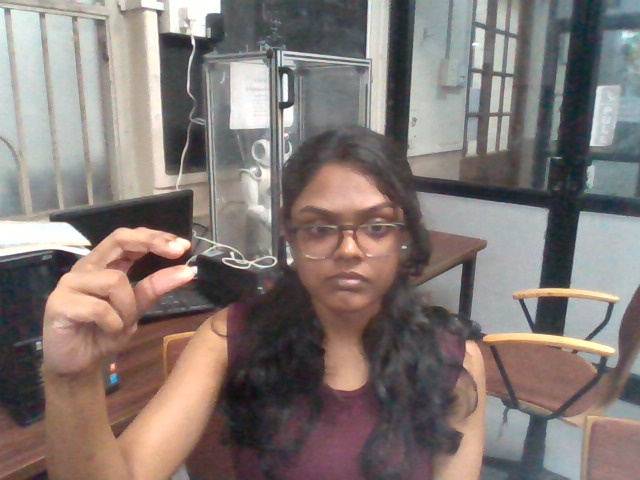No: (40, 224, 196, 376)
